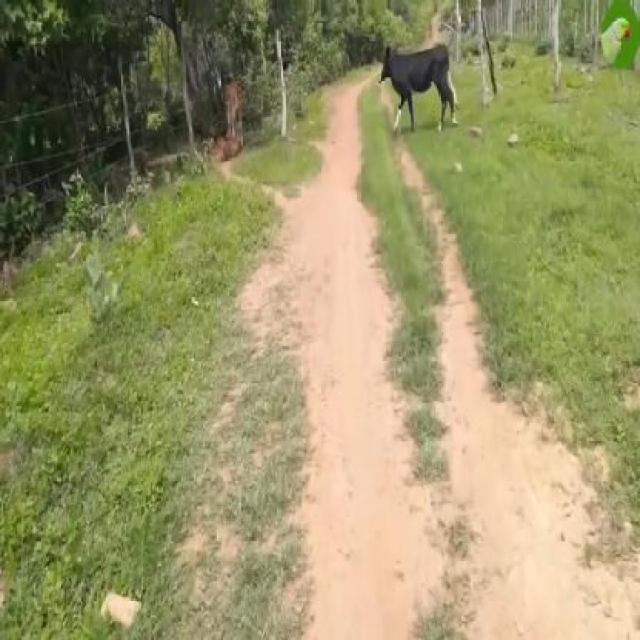Cow: (378, 45, 458, 137)
